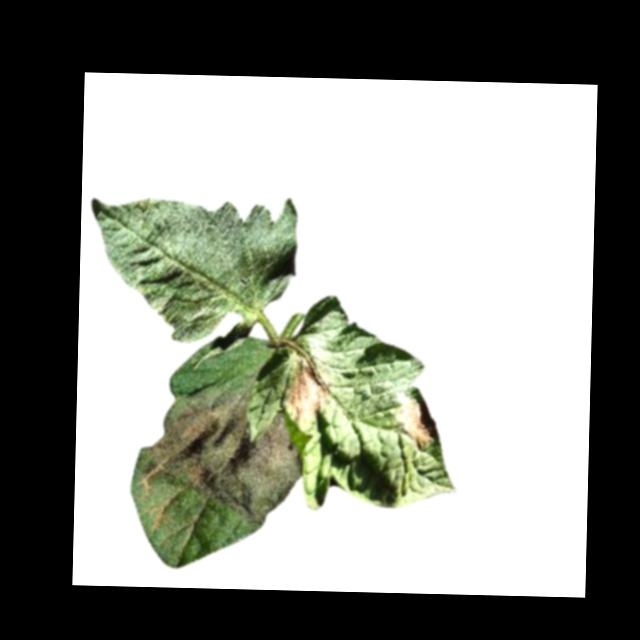Late_blight: (119, 375, 307, 533), (286, 361, 331, 424), (396, 398, 436, 448)
healthy: (87, 192, 299, 346)
